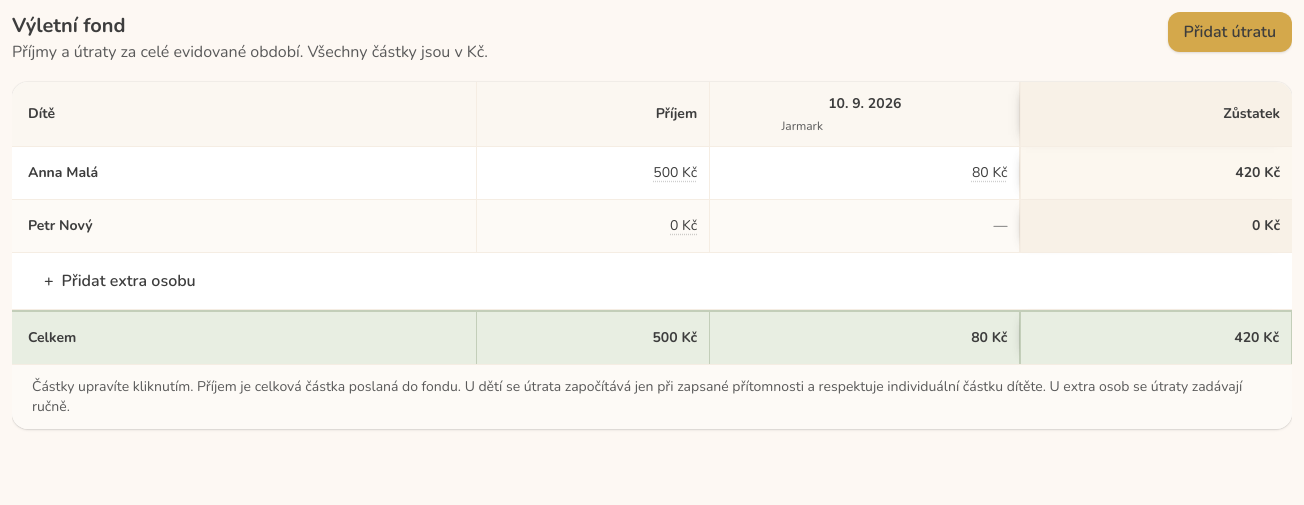
it: editable trip fund › saves an income with Enter and refreshes the balance
Click the button with aria-label "Upravit příjem: Anna Malá": [593, 173] box [482,151,705,195]
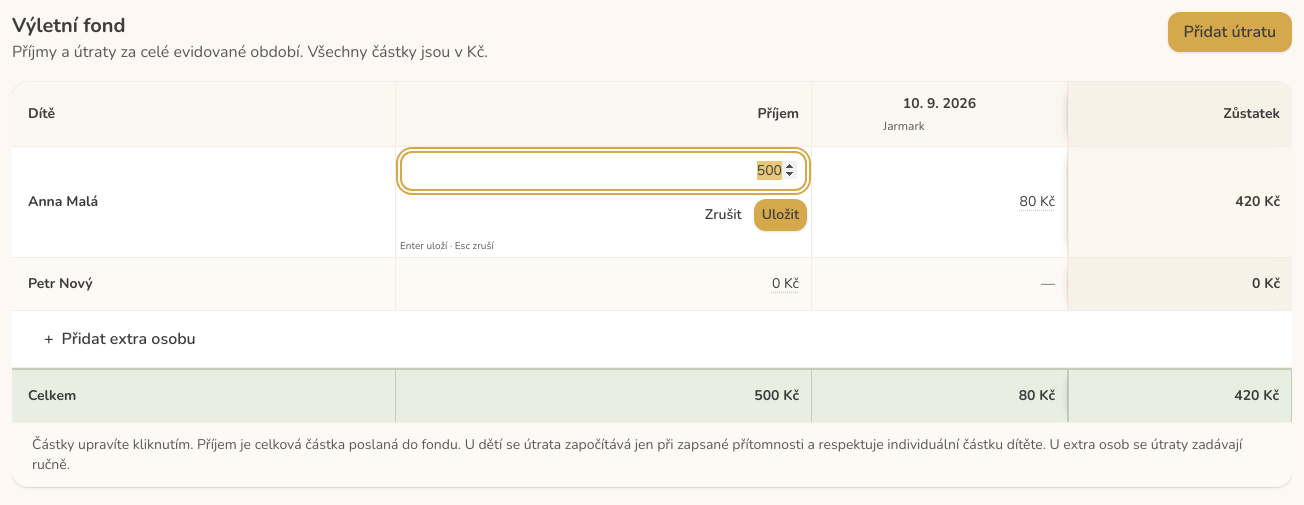
Replace the text in the number field named "Částka (Kč)" with "700": [604, 171] box [400,151,807,191]
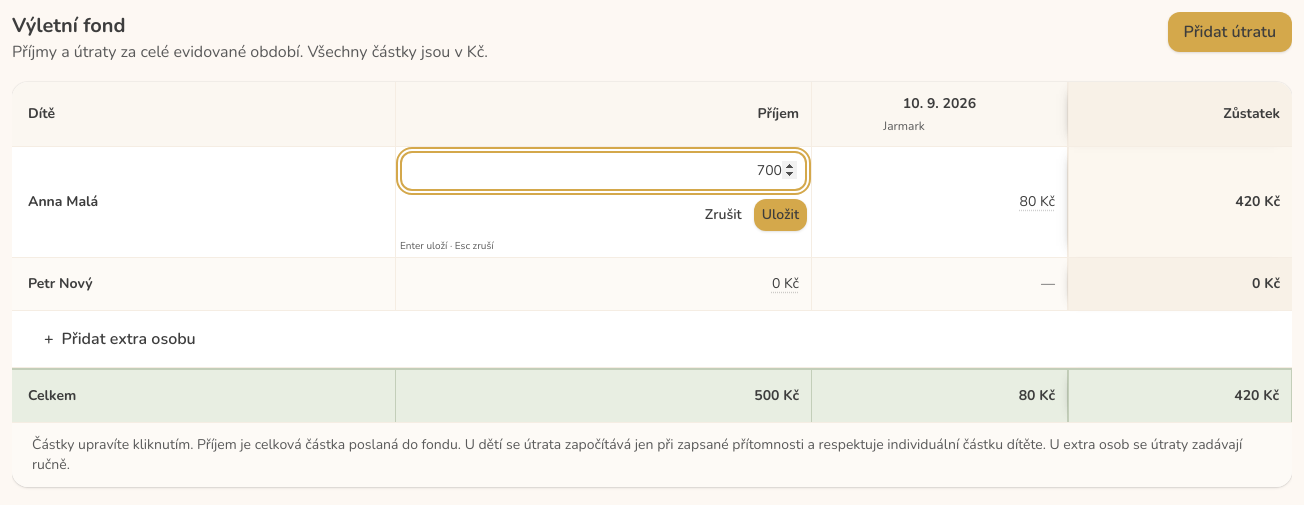
Press Enter in the number field named "Částka (Kč)", box [400,151,807,191]
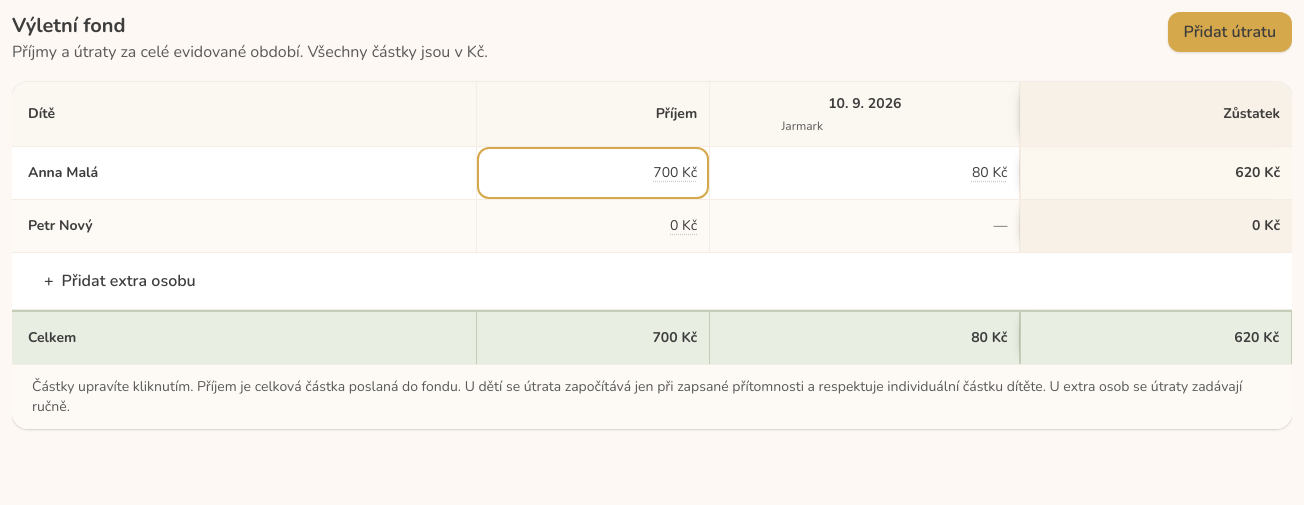
Check: the text "620 Kč" in the row of "Anna Malá" is shown, box [1235,163,1280,182]
